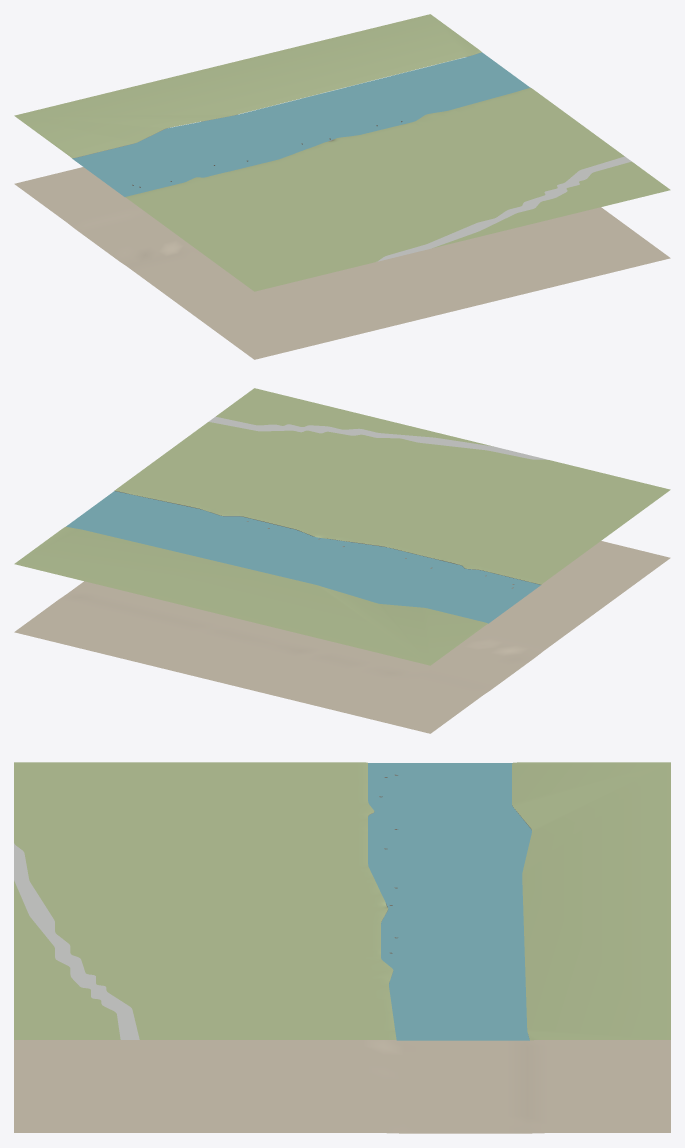
The picture shows the model from 3 angles, top to bottom: view 1: azimuth 30°, elevation 25°; view 2: azimuth 150°, elevation 25°; view 3: azimuth 270°, elevation 25°; orthographic projection. The views are drawn at different scales.
Visible parts, largest first — view 1: s_-10_-7__grass, s_-10_-7__soil, s_-10_-7__water, s_-10_-7__stone_paving; view 2: s_-10_-7__grass, s_-10_-7__soil, s_-10_-7__water, s_-10_-7__stone_paving; view 3: s_-10_-7__grass, s_-10_-7__soil, s_-10_-7__water, s_-10_-7__stone_paving.
Part boxes in pixels (x1,y1,x2,y2): s_-10_-7__grass: (14, 14, 670, 291); s_-10_-7__soil: (14, 167, 670, 359); s_-10_-7__water: (72, 52, 530, 196); s_-10_-7__stone_paving: (376, 156, 631, 261); s_-10_-7__grass: (14, 388, 670, 665); s_-10_-7__soil: (14, 541, 670, 733); s_-10_-7__water: (66, 491, 540, 623); s_-10_-7__stone_paving: (209, 416, 547, 459); s_-10_-7__grass: (14, 762, 670, 1040); s_-10_-7__soil: (14, 1040, 670, 1133); s_-10_-7__water: (368, 763, 531, 1040); s_-10_-7__stone_paving: (14, 843, 139, 1039).
Bounding box in the file's own units: 128 × 20.5 × 128.
